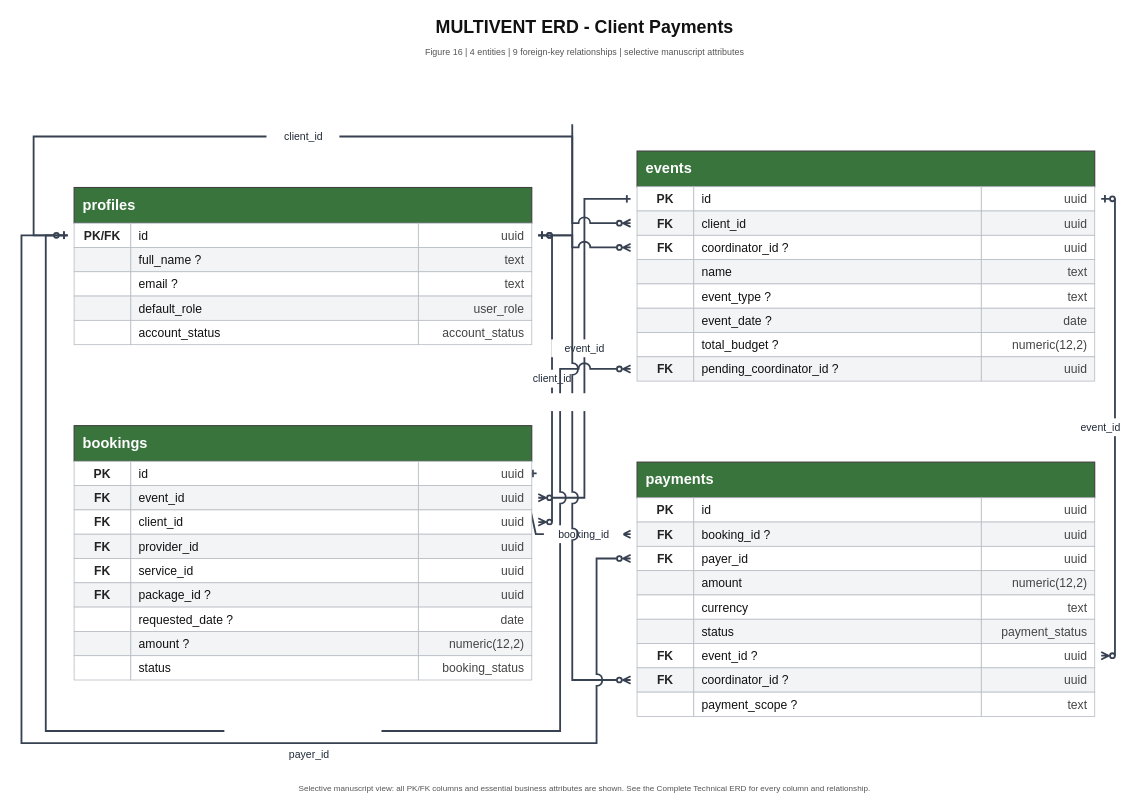
The diagram is 1148 pixels wide and 808 high, and some of its shapes have lost their labels. The centre of each missing label's shape, as x and y in pixels:
"coordinator_id" belongs at [572,402].
"pending_coordinator_id" belongs at [302,731].
